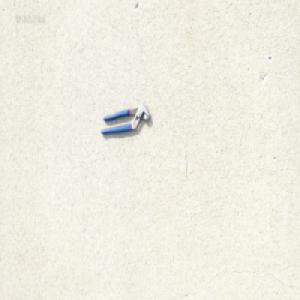Pliers: (101, 103, 152, 136)
